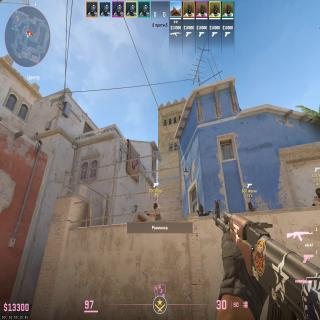CT-Head: (198, 204, 204, 213)
T-Body: (153, 202, 161, 221)
T-Head: (315, 187, 320, 198), (248, 202, 252, 210), (153, 203, 158, 209)
